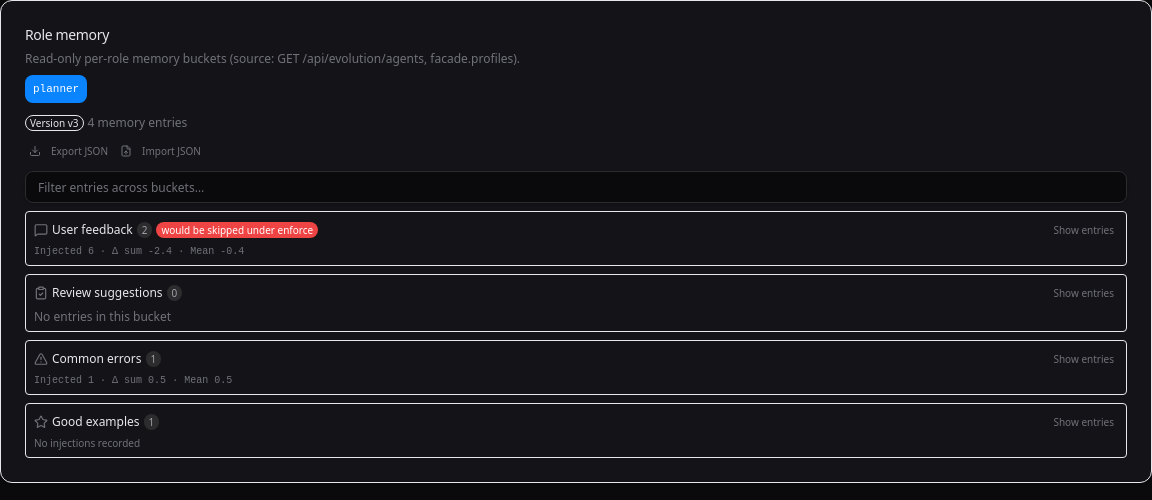
memory viewer render smoke › filters entries across buckets and shows the match count
Type "cleanup" into the field with test id "memory-search".
click(576, 187); type("cleanup")  # box [25, 171, 1127, 203]
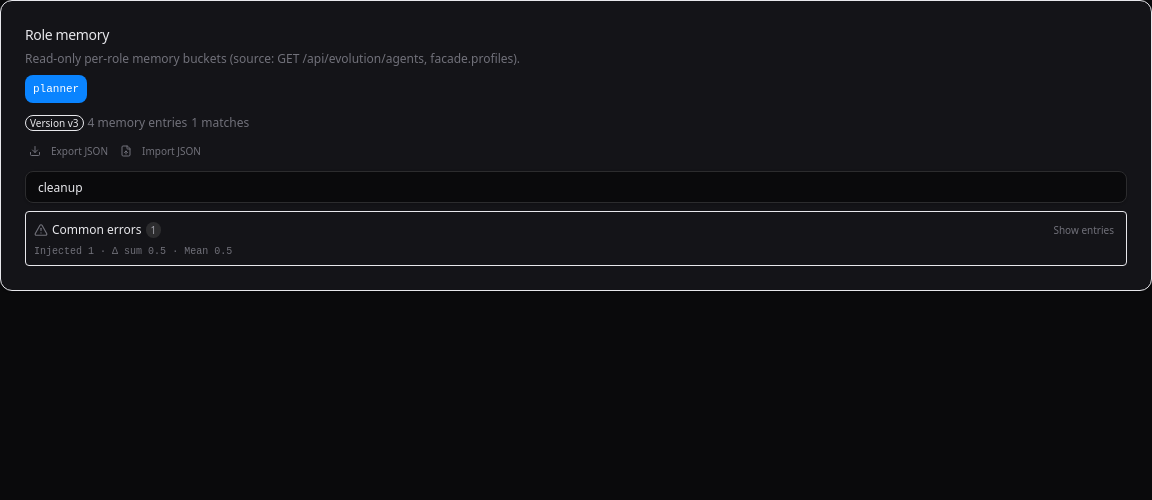
Expected: the element with test id "memory-bucket-commonErrors" is shown, [25, 211, 1127, 266]
Expected: the text with test id "memory-matches" shows "1", [191, 114, 249, 131]
Expected: the element with test id "memory-bucket-userFeedback" is gone
# No match anywhere → explicit empty state.
Replace the text in the field with test id "memory-search" with "zzz" at (576, 187), box [25, 171, 1127, 203]
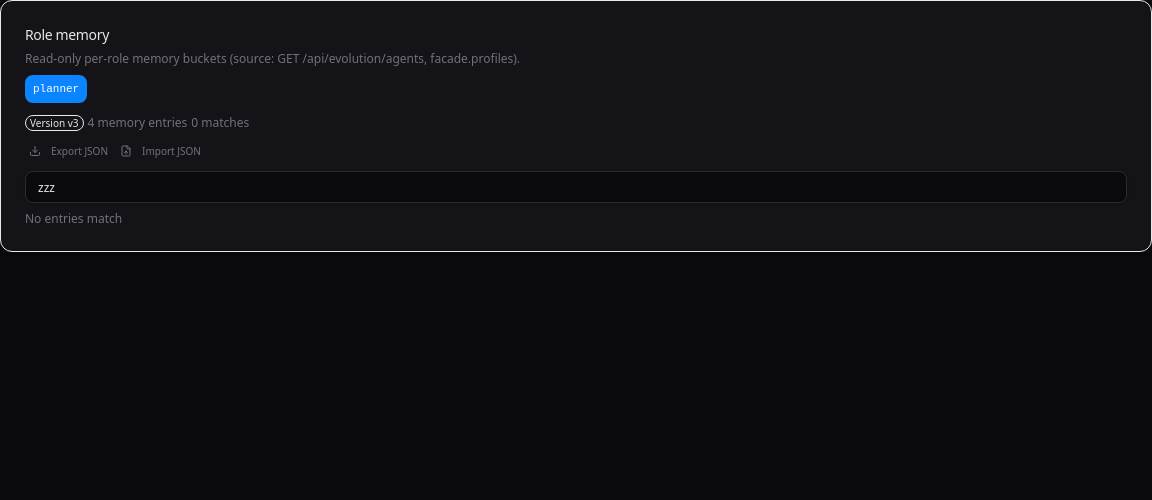
Expected: the text "No entries match" is shown, [25, 210, 122, 227]
